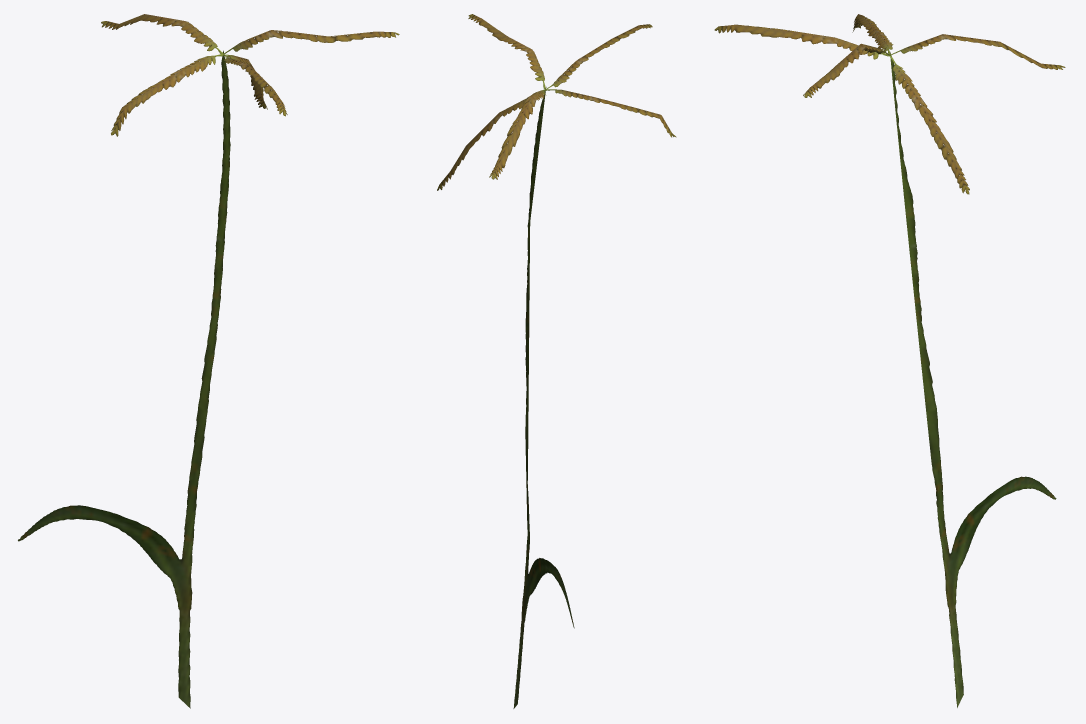
File: Bermuda_Clump_6.fbx
3 views of the same model, side by side, from view 1: azimuth 30°, elevation 25°; view 2: azimuth 150°, elevation 25°; view 3: azimuth 270°, elevation 25° (orthographic). The views are drawn at different scales.
Parts seen in each view (by area): view 1: grass_bermuda_01_seedling_c; view 2: grass_bermuda_01_seedling_c; view 3: grass_bermuda_01_seedling_c.
Part boxes in pixels (box(x1,y1,x2,y2)): grass_bermuda_01_seedling_c: box(18, 14, 399, 708); grass_bermuda_01_seedling_c: box(437, 14, 676, 708); grass_bermuda_01_seedling_c: box(714, 14, 1065, 707).
Bounding box in the file's own units: 3.72 × 9.23 × 4.45.
